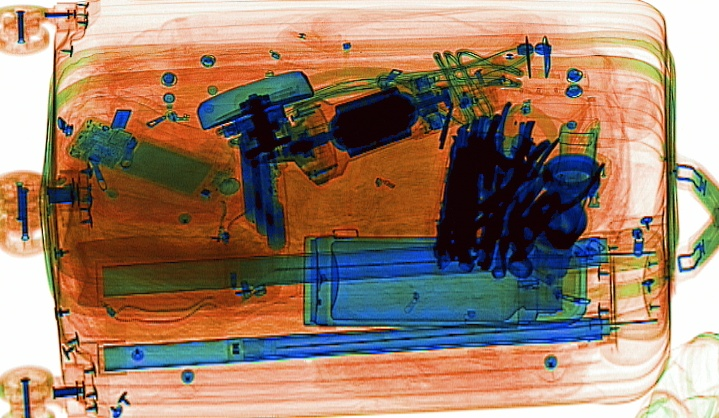powerbank: (234, 128, 291, 249)
